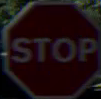Stop: (7, 22, 93, 78)
